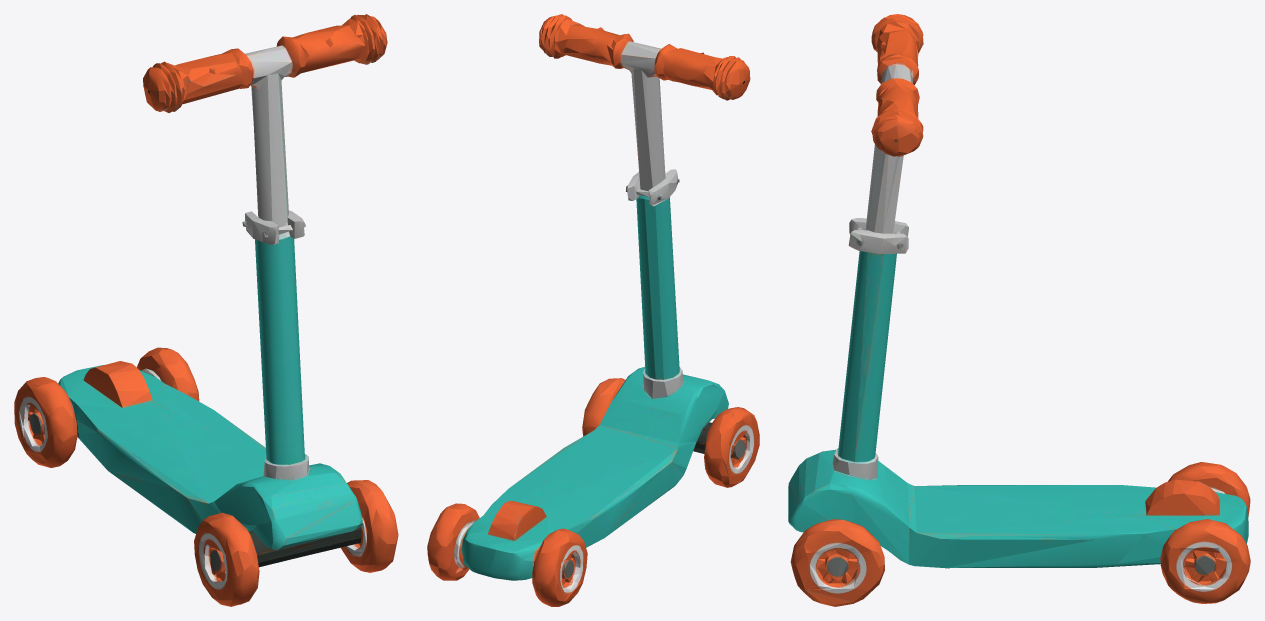
Rendered from scooter.glb.
3 views of the same model, side by side, from view 1: azimuth 30°, elevation 25°; view 2: azimuth 150°, elevation 25°; view 3: azimuth 270°, elevation 25° (orthographic). The views are drawn at different scales.
Size of the model in its own units: 0.5618 by 1.22 by 1.
Materials: 1 (1 with a texture image).
